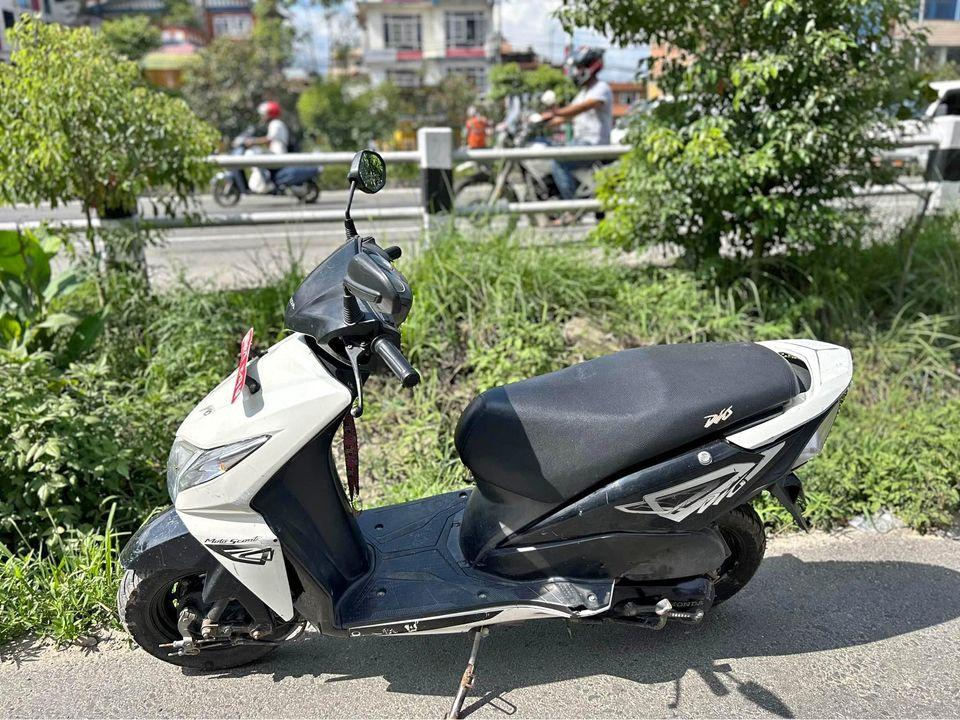scooter: (113, 140, 861, 694)
